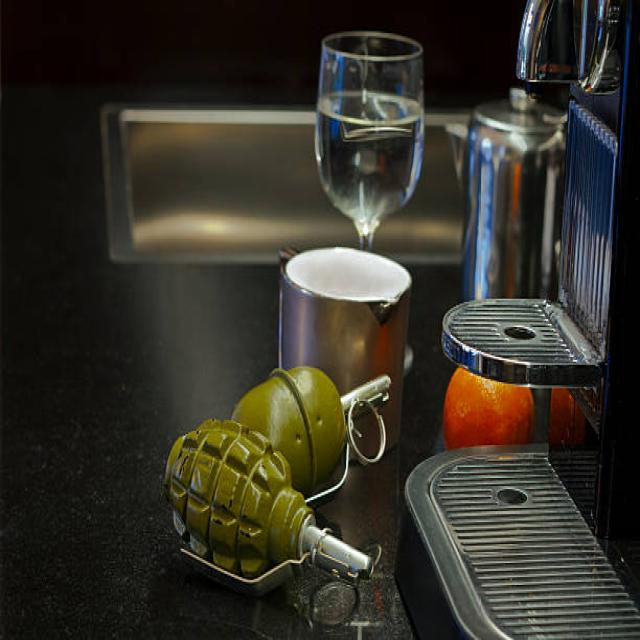grenade: (158, 414, 387, 640)
